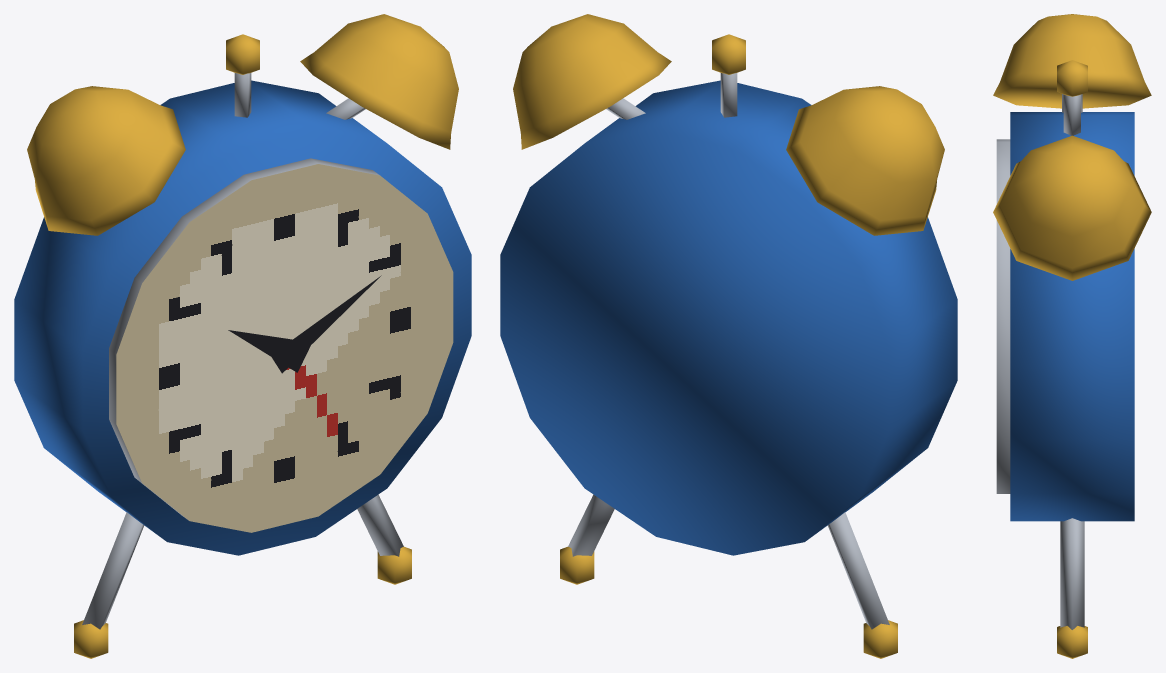
Rendered from home-alarmClock.glb.
3 views of the same model, side by side, from view 1: azimuth 30°, elevation 25°; view 2: azimuth 150°, elevation 25°; view 3: azimuth 270°, elevation 25° (orthographic). The views are drawn at different scales.
Visible parts, largest first — view 1: home.alarmClock; view 2: home.alarmClock; view 3: home.alarmClock.
Part boxes in pixels (x1,y1,x2,y2): home.alarmClock: (14, 14, 471, 658); home.alarmClock: (500, 14, 957, 658); home.alarmClock: (993, 14, 1151, 658).
Bounding box in the file's own units: 1.29 × 1.76 × 0.4965.
5 materials, 4 textured.
